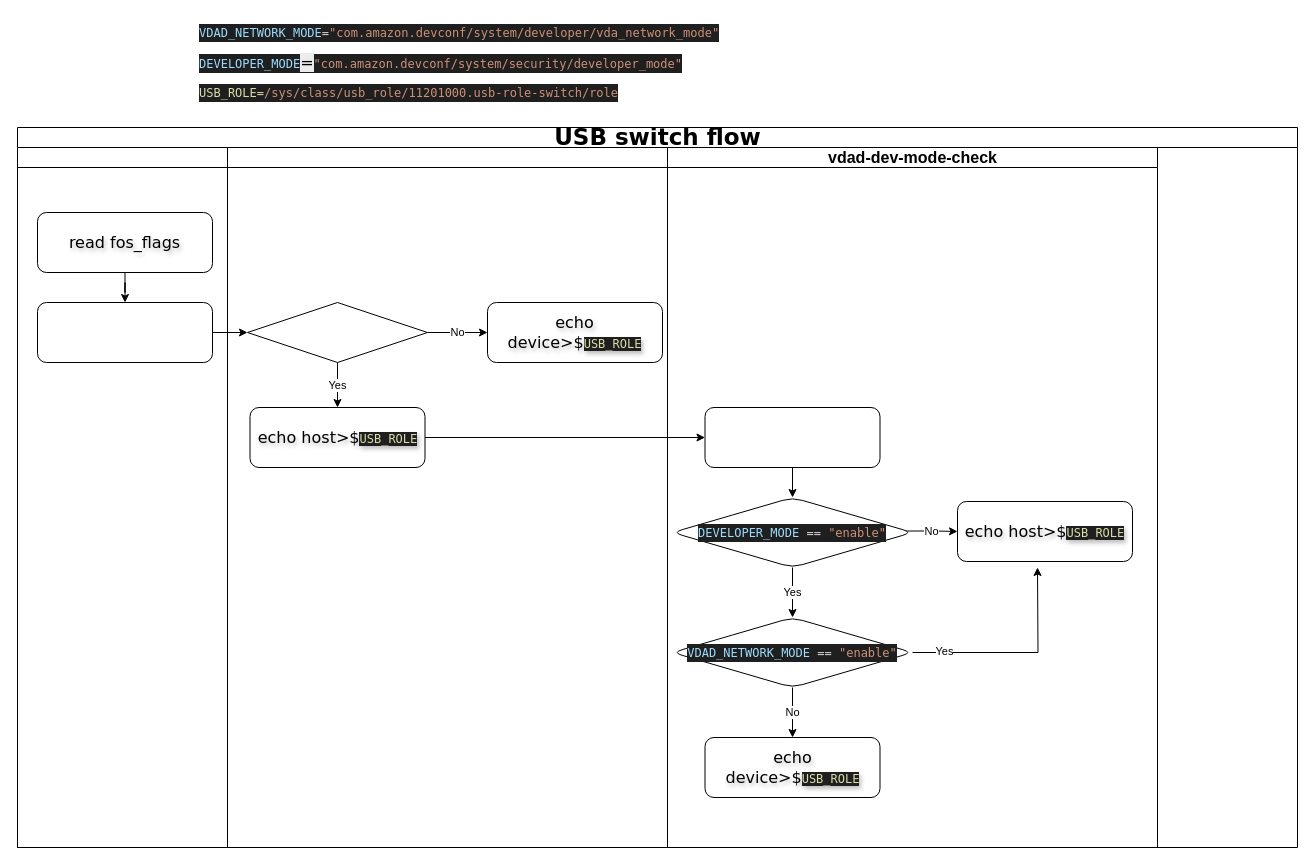
This 1315x865 diagram has some shape labels left out. The shapes that lost their labels are listed below. From the top down, each one's box as (x1, y1, x2, y2) in pixels, then its label:
(36, 302, 212, 362): set y_cable = !fos_flags[0]
(246, 302, 428, 362): fos_flags[0]==0?
(704, 406, 880, 468): read DEVELOPER_MODE read VDAD_NETWORK_MODE
(16, 146, 228, 848): uboot
(226, 146, 668, 848): kernel
